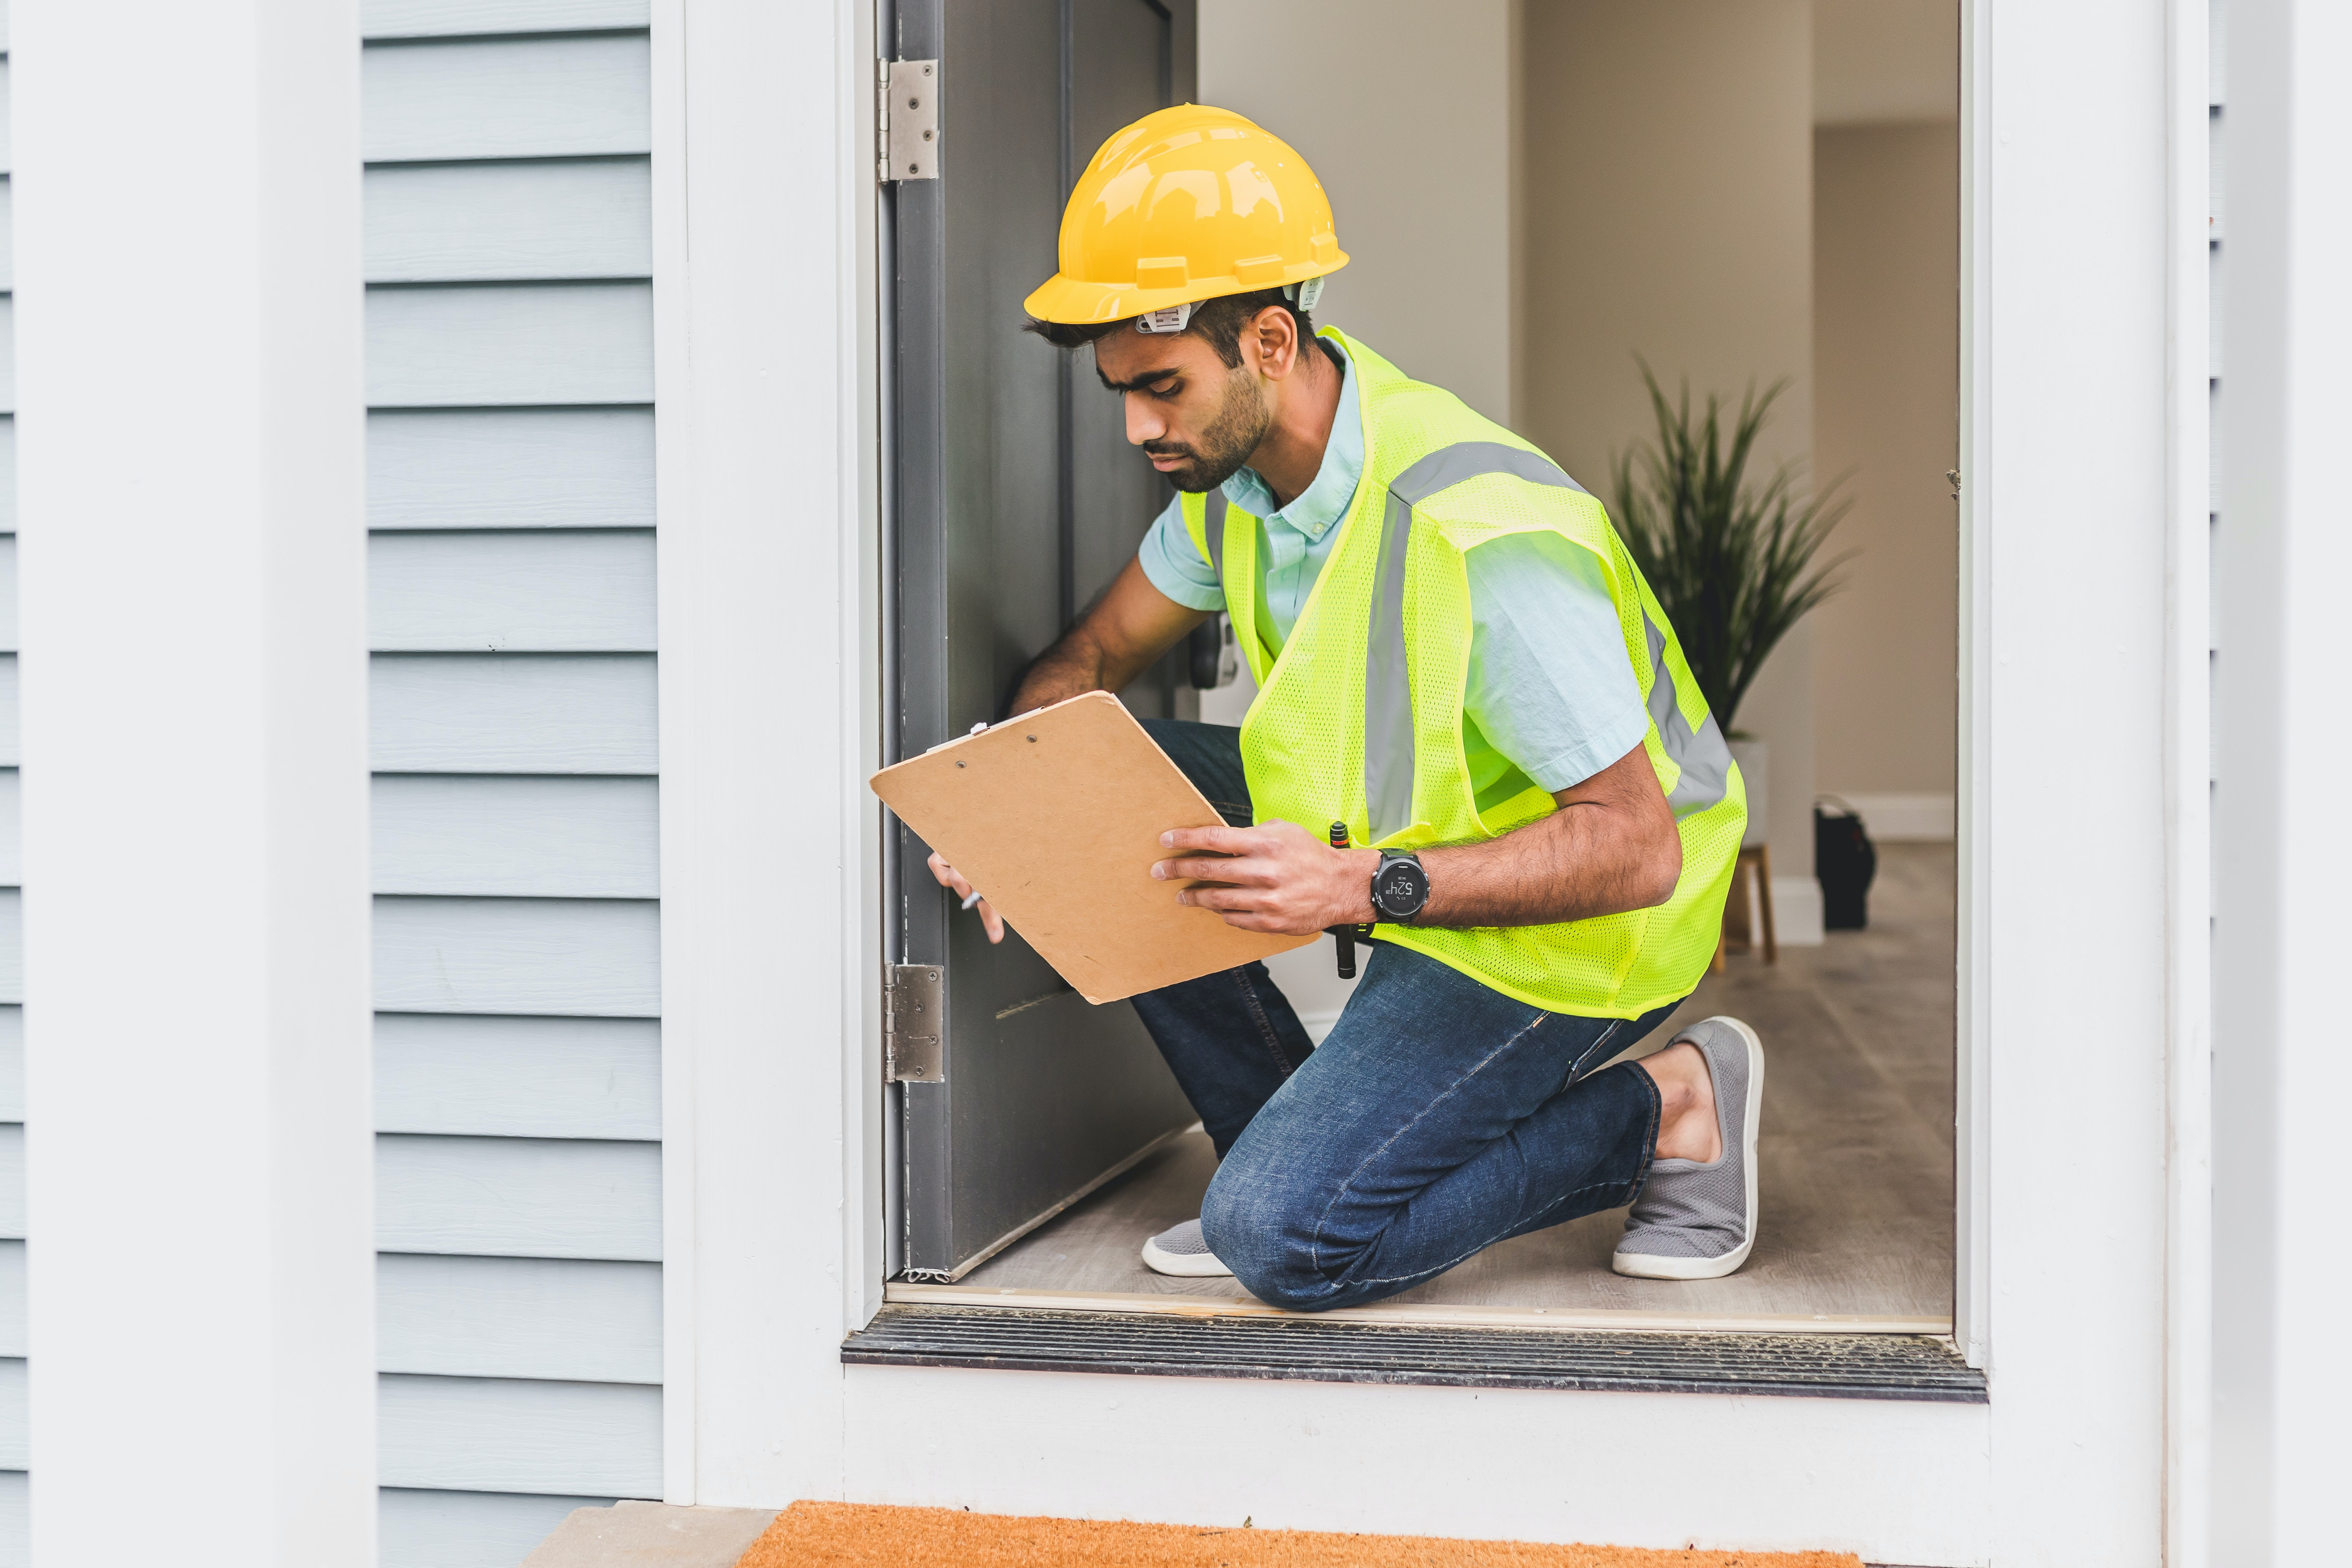Helmet: (1006, 91, 1353, 513)
Reflective vest: (1179, 317, 1752, 1031)
